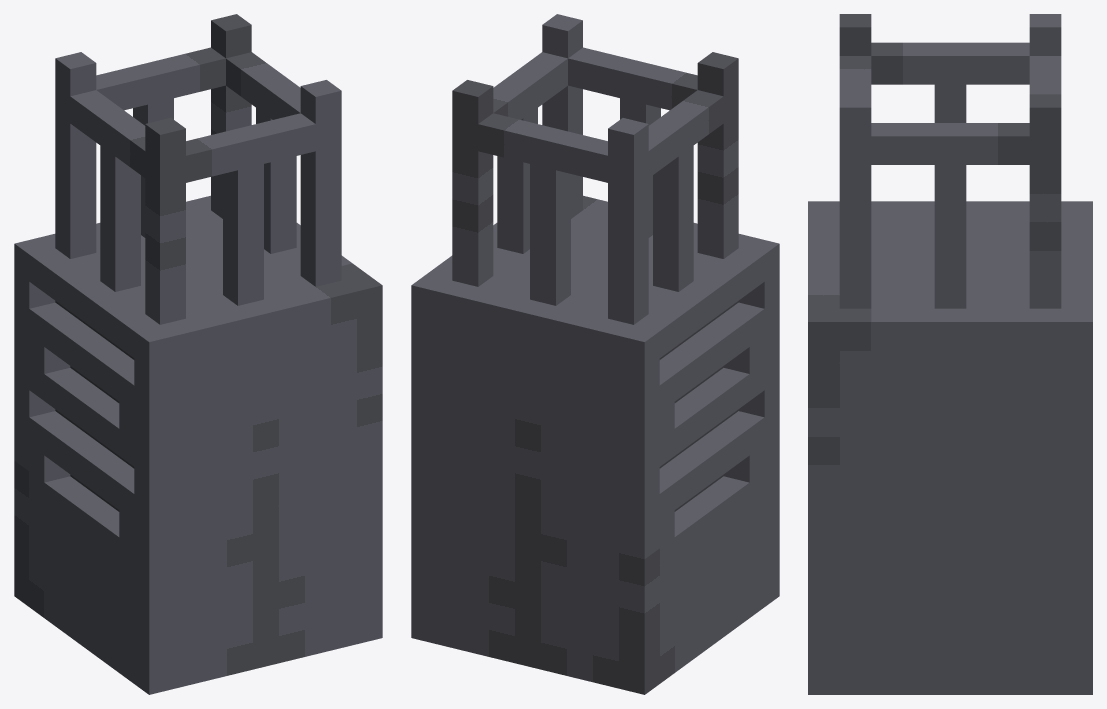
The model's file is statueoftherunawayclient.obj.
3 views of the same model, side by side, from view 1: azimuth 30°, elevation 25°; view 2: azimuth 150°, elevation 25°; view 3: azimuth 270°, elevation 25° (orthographic). The views are drawn at different scales.
Parts seen in each view (by area): view 1: Box_71; view 2: Box_71; view 3: Box_71.
Boxes of the visible parts, bbox=[...] form: Box_71: bbox=[14, 14, 382, 694]; Box_71: bbox=[411, 14, 779, 694]; Box_71: bbox=[808, 14, 1092, 694].
Bounding box in the file's own units: 9 × 20 × 9.
Materials: 1 (1 with a texture image).
